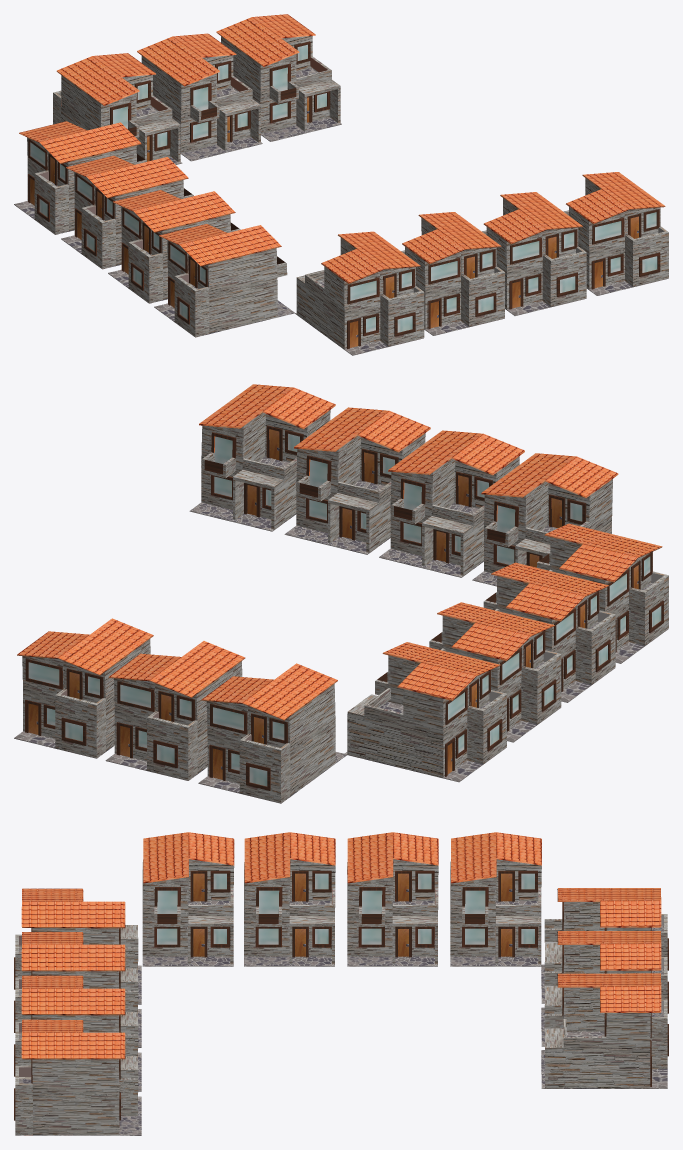
Rendered from all_casa.obj.
3 views of the same model, one above another, from view 1: azimuth 30°, elevation 25°; view 2: azimuth 150°, elevation 25°; view 3: azimuth 270°, elevation 25° (orthographic). The views are drawn at different scales.
Parts seen in each view (by area): view 1: Cube.005_Cube.012, Cube.004_Cube.011, Cube.010_Cube.017, Cube.011_Cube.018, Cube.008_Cube.015, Cube.007_Cube.014, Cube.006_Cube.013, Cube.009_Cube.016, Cube.001_Cube.009, Cube.002_Cube.008, Cube.003_Cube.010; view 2: Cube.002_Cube.008, Cube.009_Cube.016, Cube.008_Cube.015, Cube.007_Cube.014, Cube.006_Cube.013, Cube.010_Cube.017, Cube.011_Cube.018, Cube.005_Cube.012, Cube.001_Cube.009, Cube.003_Cube.010, Cube.004_Cube.011; view 3: Cube.011_Cube.018, Cube.008_Cube.015, Cube.004_Cube.011, Cube.002_Cube.008, Cube.001_Cube.009, Cube.003_Cube.010, Cube.007_Cube.014, Cube.006_Cube.013, Cube.005_Cube.012, Cube.010_Cube.017, Cube.009_Cube.016.
Boxes of the visible parts, <box> form: Cube.005_Cube.012: <box>295,231,424,355</box>; Cube.004_Cube.011: <box>154,224,294,337</box>; Cube.010_Cube.017: <box>137,33,262,161</box>; Cube.011_Cube.018: <box>216,14,341,141</box>; Cube.008_Cube.015: <box>563,172,668,295</box>; Cube.007_Cube.014: <box>482,192,586,315</box>; Cube.006_Cube.013: <box>401,212,504,335</box>; Cube.009_Cube.016: <box>53,53,182,164</box>; Cube.001_Cube.009: <box>61,155,193,269</box>; Cube.002_Cube.008: <box>14,121,146,234</box>; Cube.003_Cube.010: <box>108,190,240,303</box>; Cube.002_Cube.008: <box>344,642,507,782</box>; Cube.009_Cube.016: <box>198,663,347,803</box>; Cube.008_Cube.015: <box>189,384,335,531</box>; Cube.007_Cube.014: <box>284,407,430,554</box>; Cube.006_Cube.013: <box>379,430,524,577</box>; Cube.010_Cube.017: <box>105,641,245,780</box>; Cube.011_Cube.018: <box>14,618,153,758</box>; Cube.005_Cube.012: <box>472,453,618,586</box>; Cube.001_Cube.009: <box>429,602,561,742</box>; Cube.003_Cube.010: <box>483,562,615,702</box>; Cube.004_Cube.011: <box>537,523,668,663</box>; Cube.011_Cube.018: <box>541,973,668,1088</box>; Cube.008_Cube.015: <box>14,1019,141,1135</box>; Cube.004_Cube.011: <box>142,832,234,966</box>; Cube.002_Cube.008: <box>450,832,541,966</box>; Cube.001_Cube.009: <box>347,832,438,966</box>; Cube.003_Cube.010: <box>244,832,335,966</box>; Cube.007_Cube.014: <box>14,975,141,1091</box>; Cube.006_Cube.013: <box>14,932,141,1047</box>; Cube.005_Cube.012: <box>14,888,141,1004</box>; Cube.010_Cube.017: <box>541,931,668,1046</box>; Cube.009_Cube.016: <box>541,888,668,1003</box>.
Bounding box in the file's own units: 2355 × 412 × 2921.
Materials: 66 (66 with a texture image).
